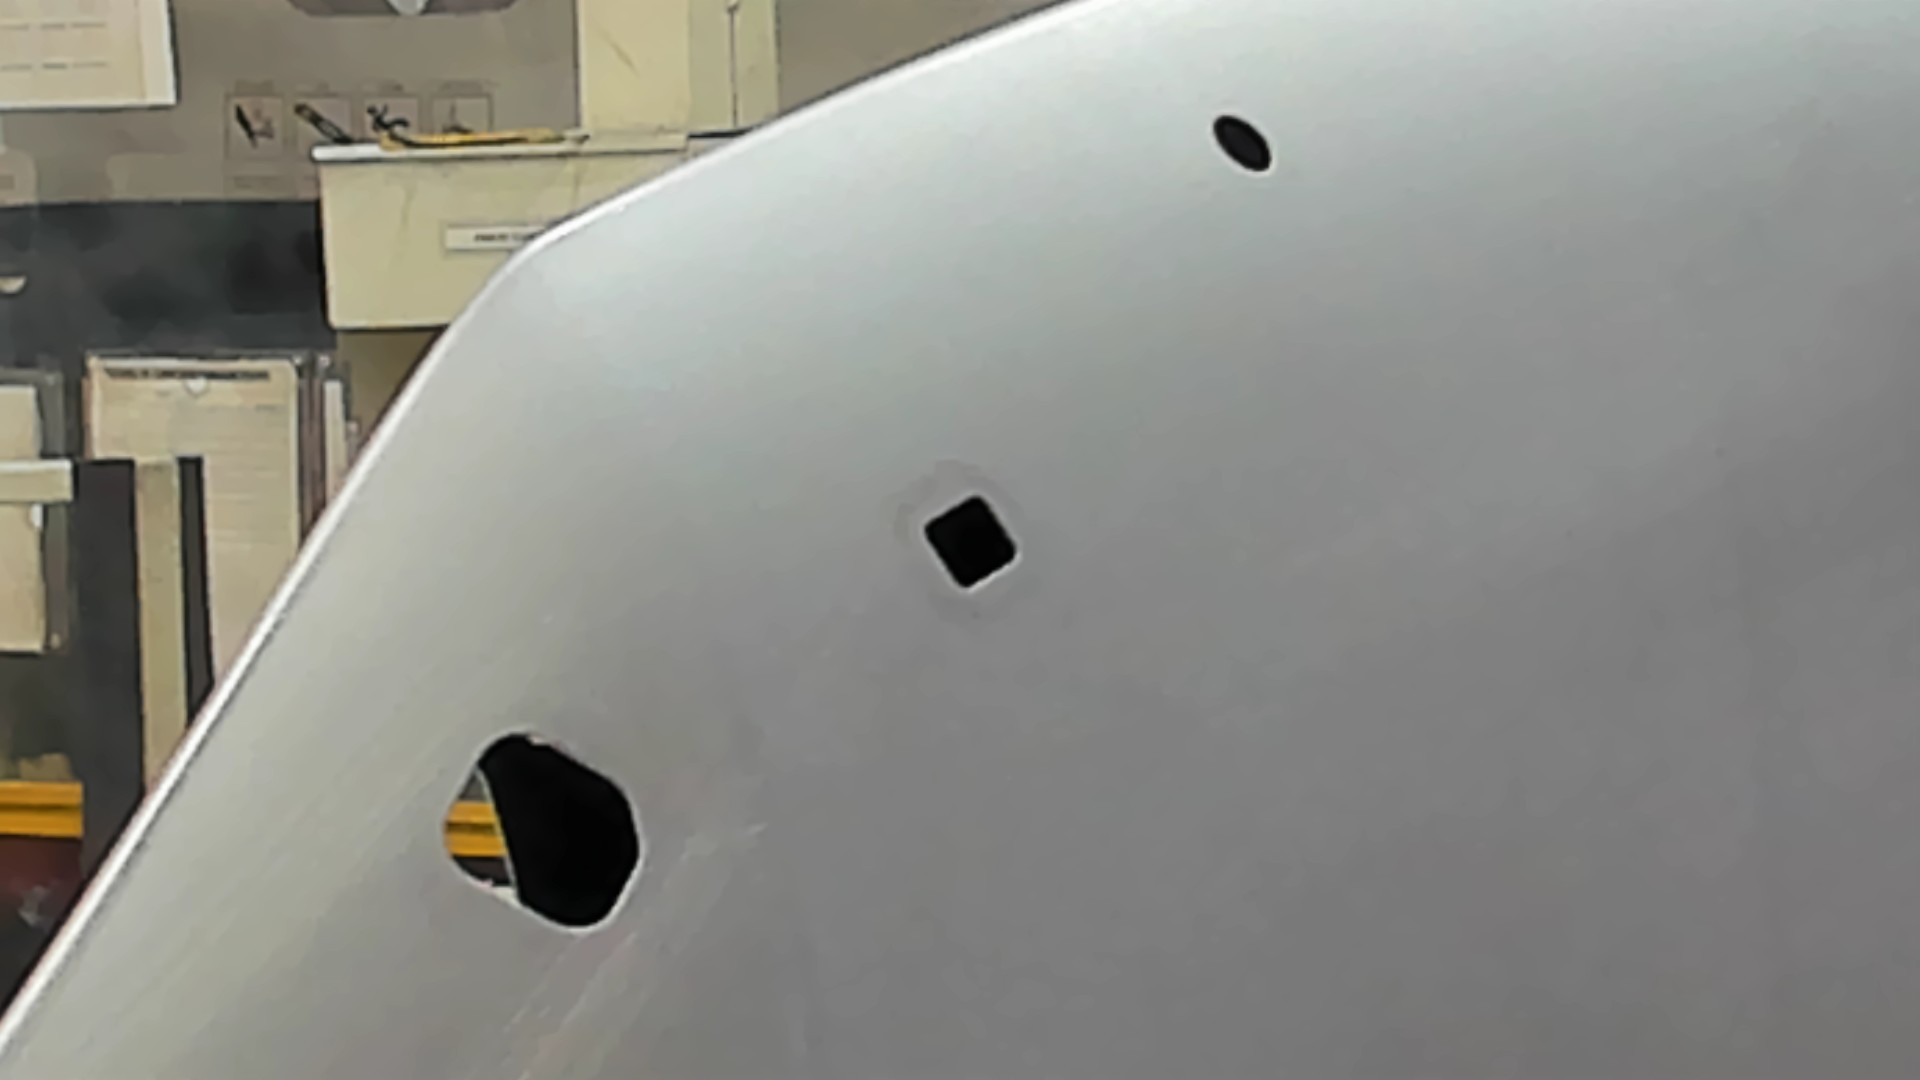Agujero: (922, 492, 1019, 596), (1209, 112, 1274, 171)
Agujerote: (440, 727, 646, 936)
